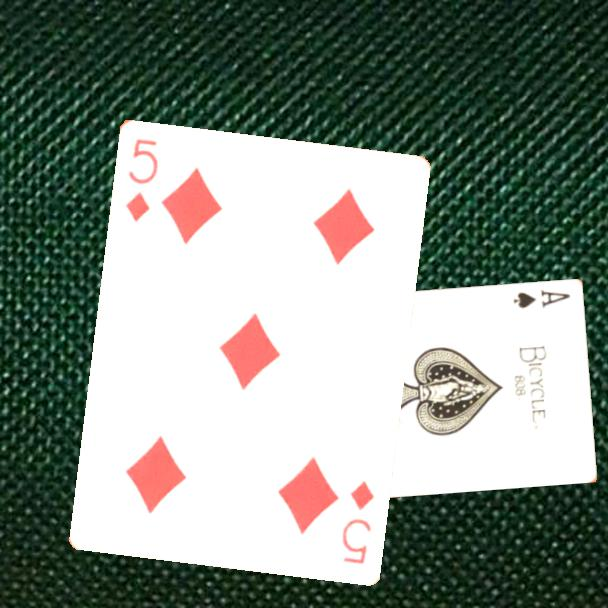d05: (122, 134, 161, 224), (338, 477, 377, 566)
s01: (511, 286, 573, 311)
